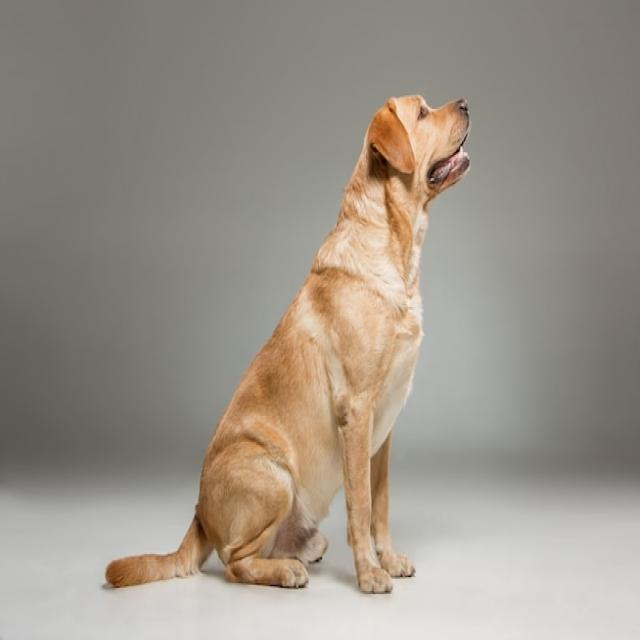Dog: (105, 94, 470, 599)
